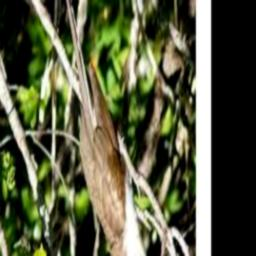Cuckoo: (60, 0, 155, 256)
